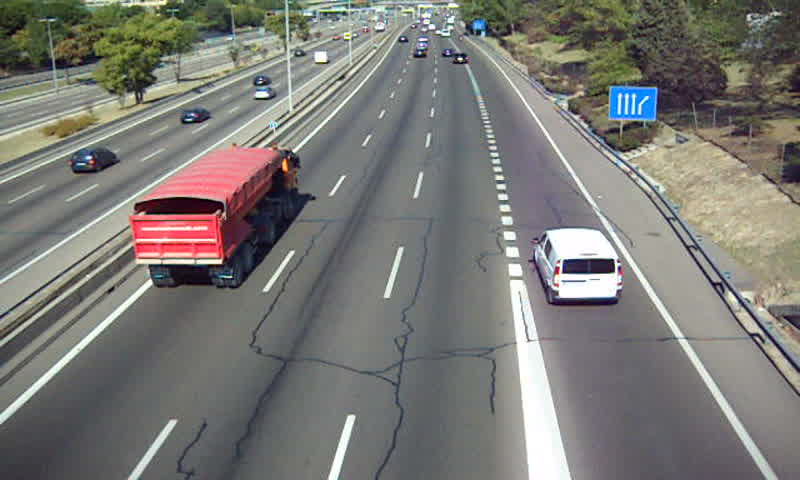truck: (129, 146, 300, 286)
van: (533, 229, 624, 305)
